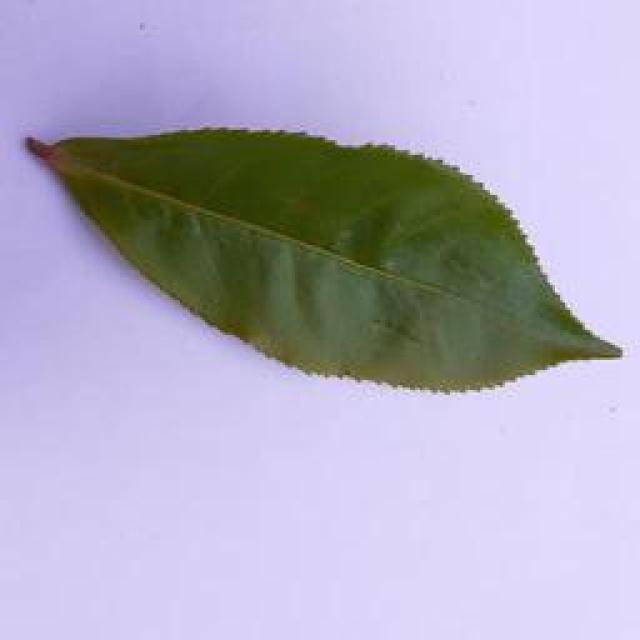Healthy: (21, 107, 622, 416)
